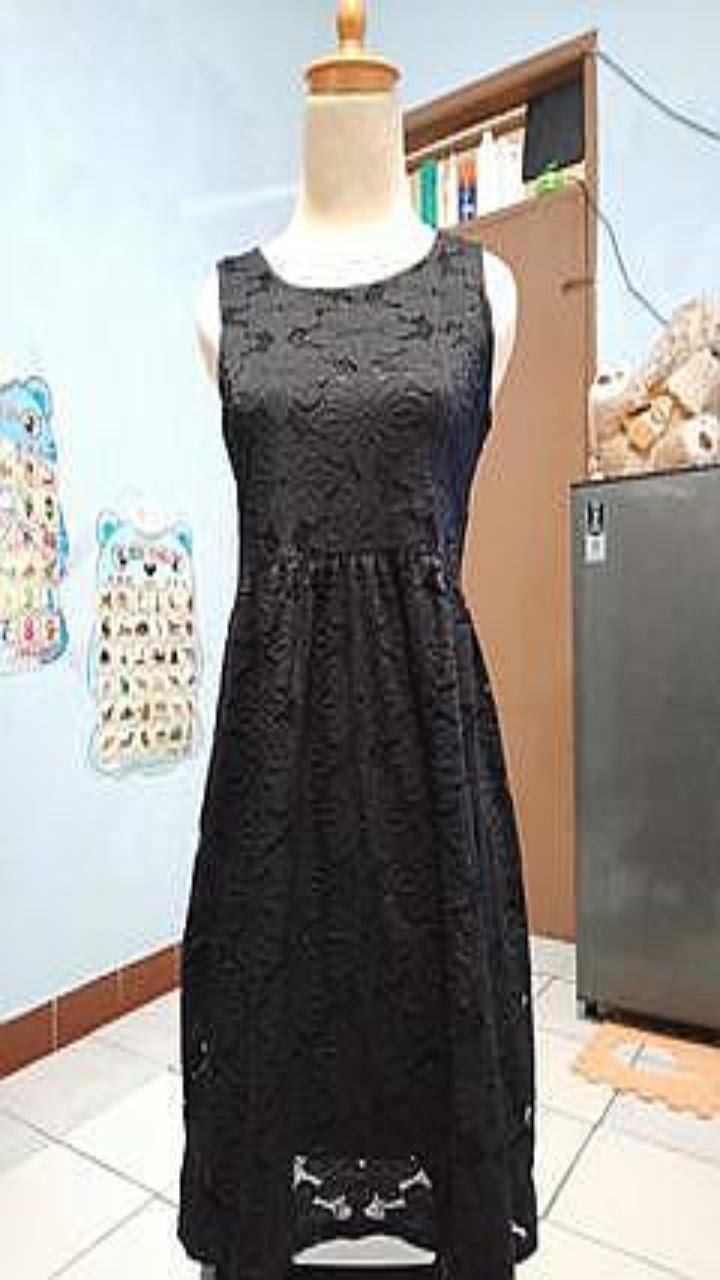Dresses: (177, 230, 536, 1279)
